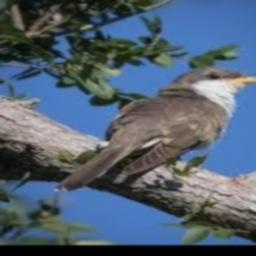Cuckoo: (54, 68, 256, 192)
